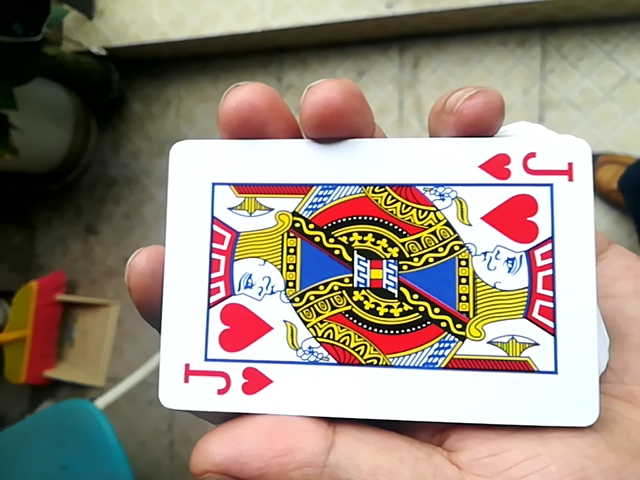hx j: (135, 129, 597, 434)
